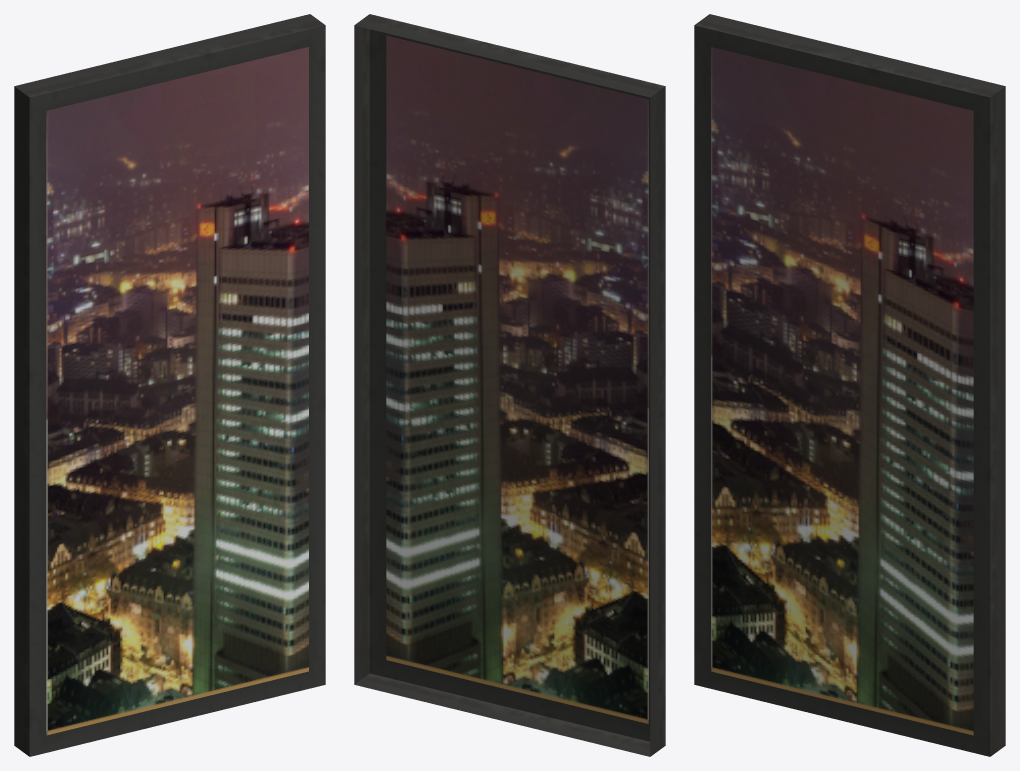
The model's file is paint_7.fbx.
3 renders of one model, left to right at view 1: azimuth 30°, elevation 25°; view 2: azimuth 150°, elevation 25°; view 3: azimuth 330°, elevation 25°, orthographic.
Visible parts, largest first — view 1: pCube7; view 2: pCube7; view 3: pCube7.
Part boxes in pixels (bbox=[...]): pCube7: bbox=[14, 14, 325, 756]; pCube7: bbox=[354, 14, 665, 756]; pCube7: bbox=[694, 14, 1005, 756].
Size of the model in its own units: 54.3 by 116 by 4.93.
